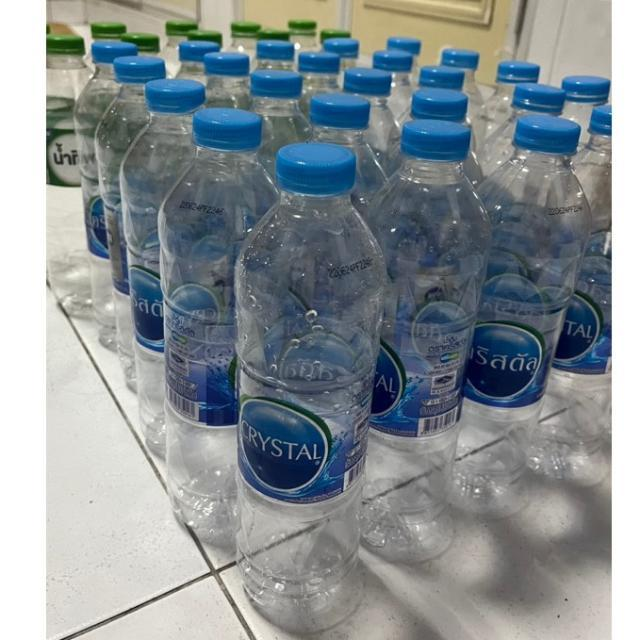PET Bottle: (163, 0, 609, 164), (240, 105, 374, 640), (354, 100, 488, 561), (160, 82, 282, 557), (458, 113, 588, 545), (123, 56, 208, 450), (99, 42, 162, 374), (66, 30, 125, 362)
